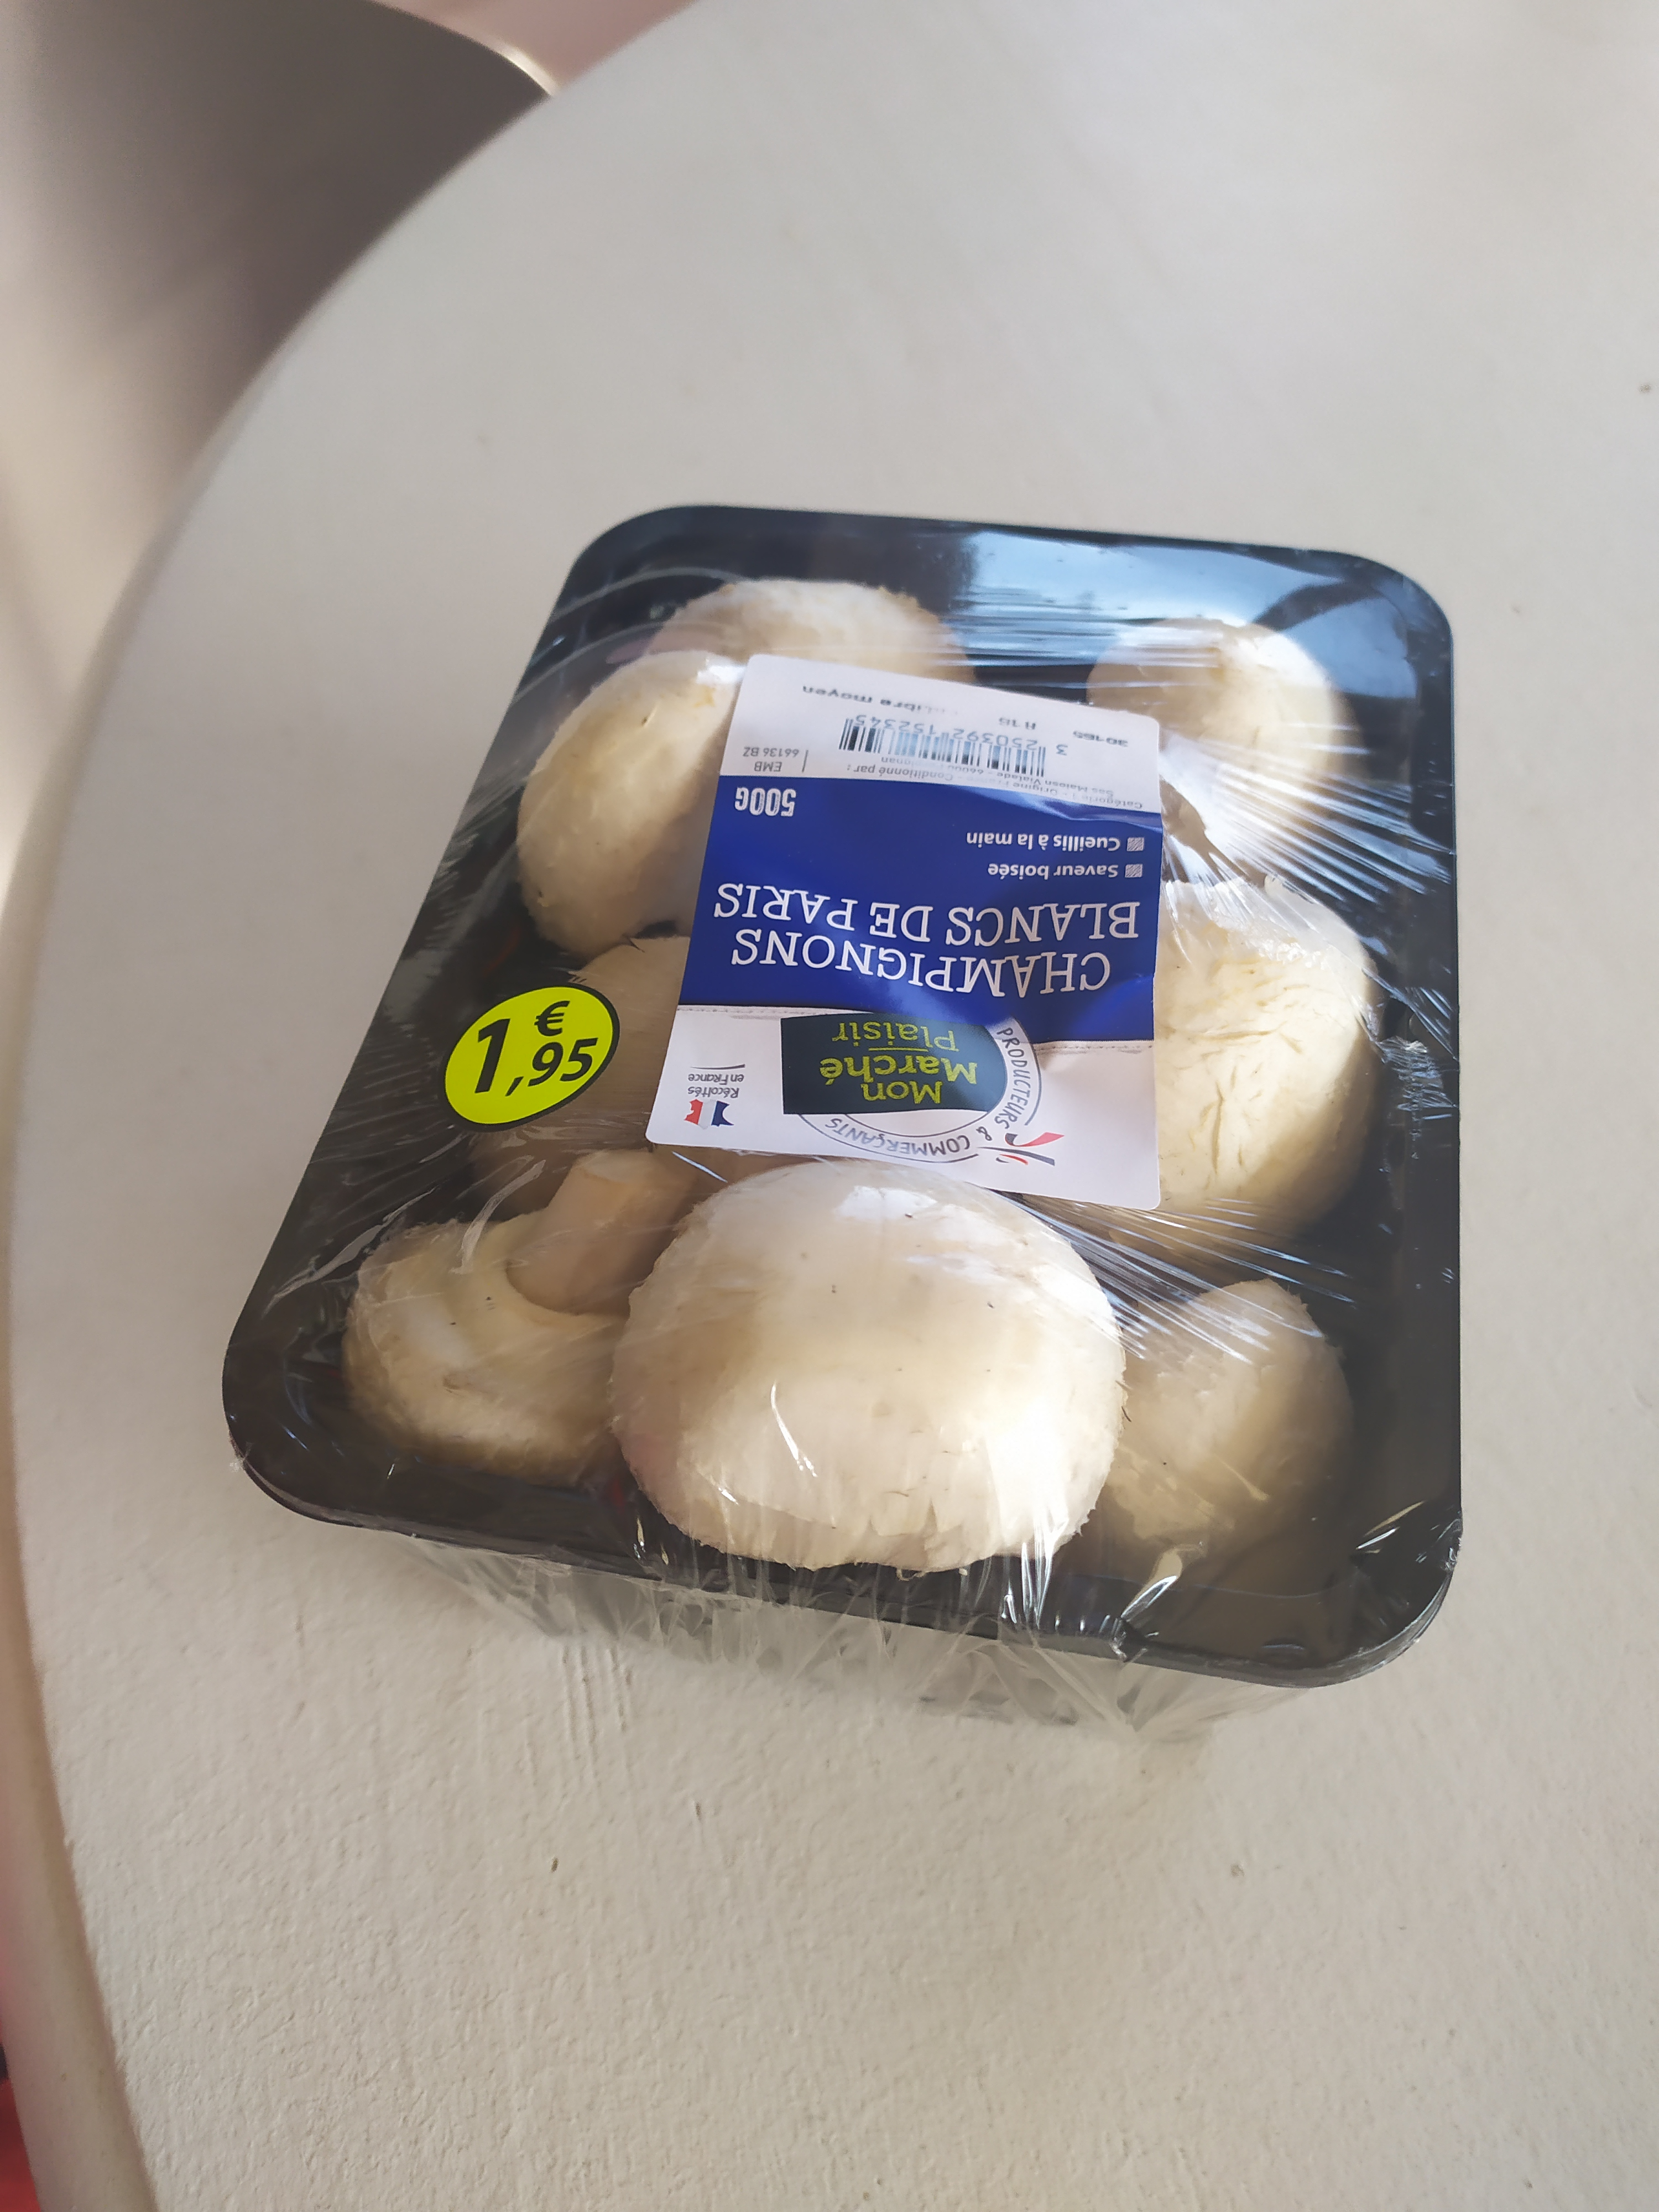mushroom: (228, 493, 1469, 1756)
